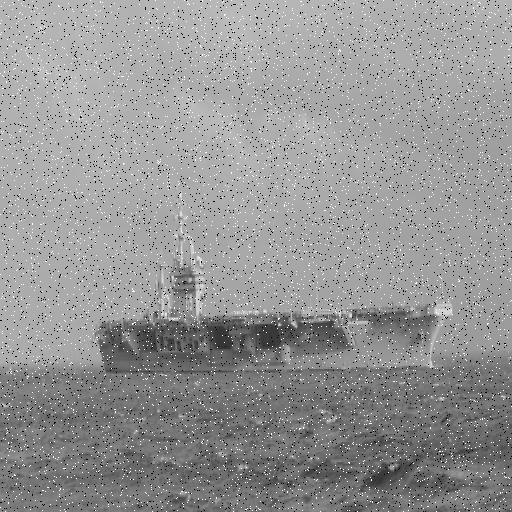Portanaves: (95, 181, 455, 379)
